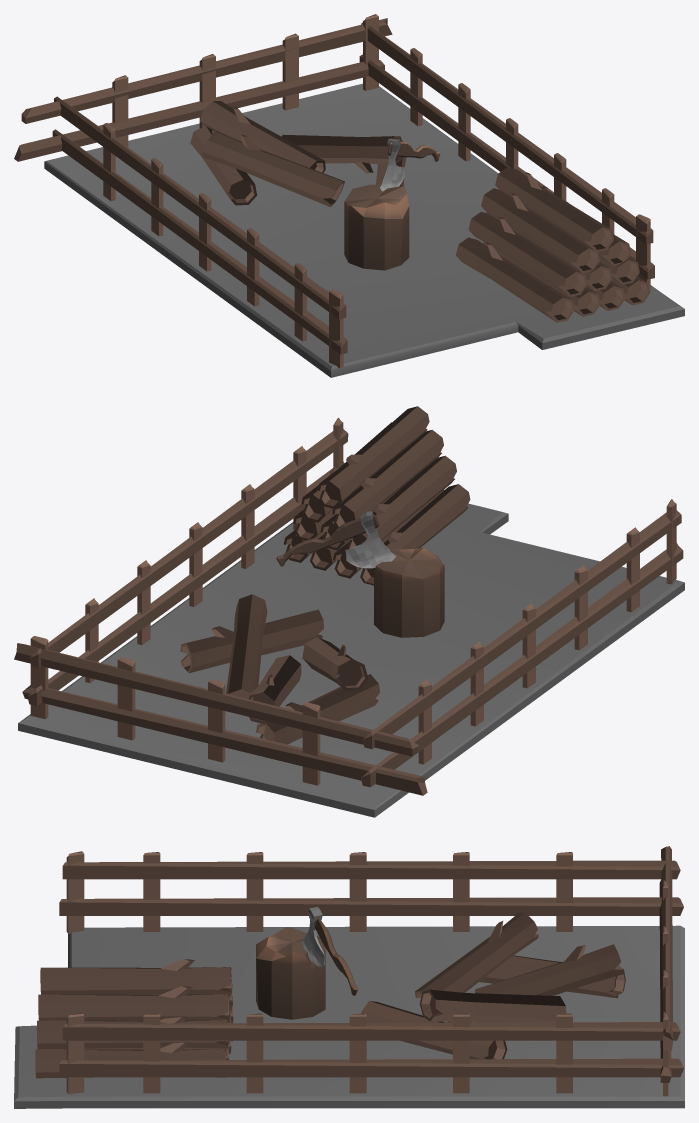
File: sawmill_0lvl.fbx
3 renders of one model, top to bottom at view 1: azimuth 30°, elevation 25°; view 2: azimuth 150°, elevation 25°; view 3: azimuth 270°, elevation 25°, orthographic. The views are drawn at different scales.
Parts seen in each view (by area): view 1: sawmill_0lvl; view 2: sawmill_0lvl; view 3: sawmill_0lvl.
Boxes of the visible parts, left/top/right/bottom form: sawmill_0lvl: left=14, top=14, right=684, bottom=377; sawmill_0lvl: left=14, top=406, right=684, bottom=817; sawmill_0lvl: left=14, top=846, right=684, bottom=1108.
Size of the model in its own units: 4.54 by 1.29 by 6.52.
